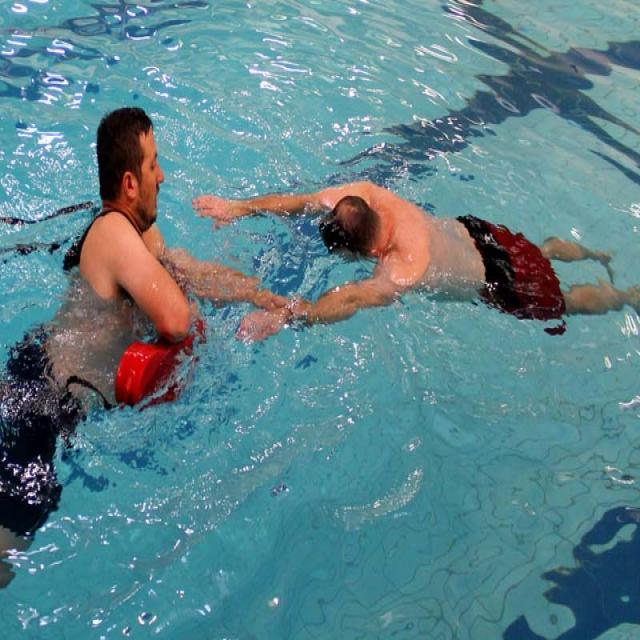Out of Water: (197, 148, 628, 348)
